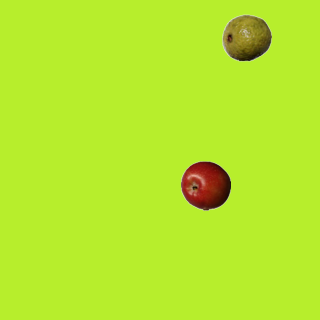Apple Braeburn: (180, 160, 230, 210)
Guava: (221, 12, 271, 62)
